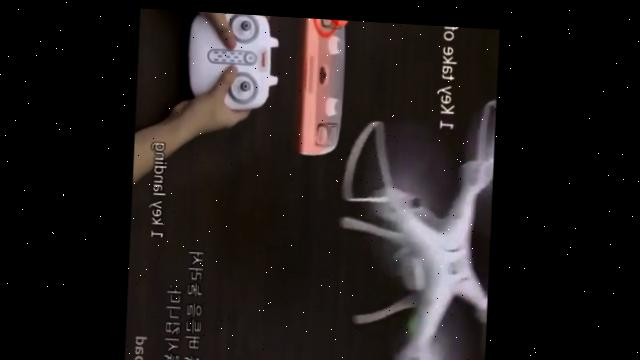drone: (335, 84, 498, 360)
